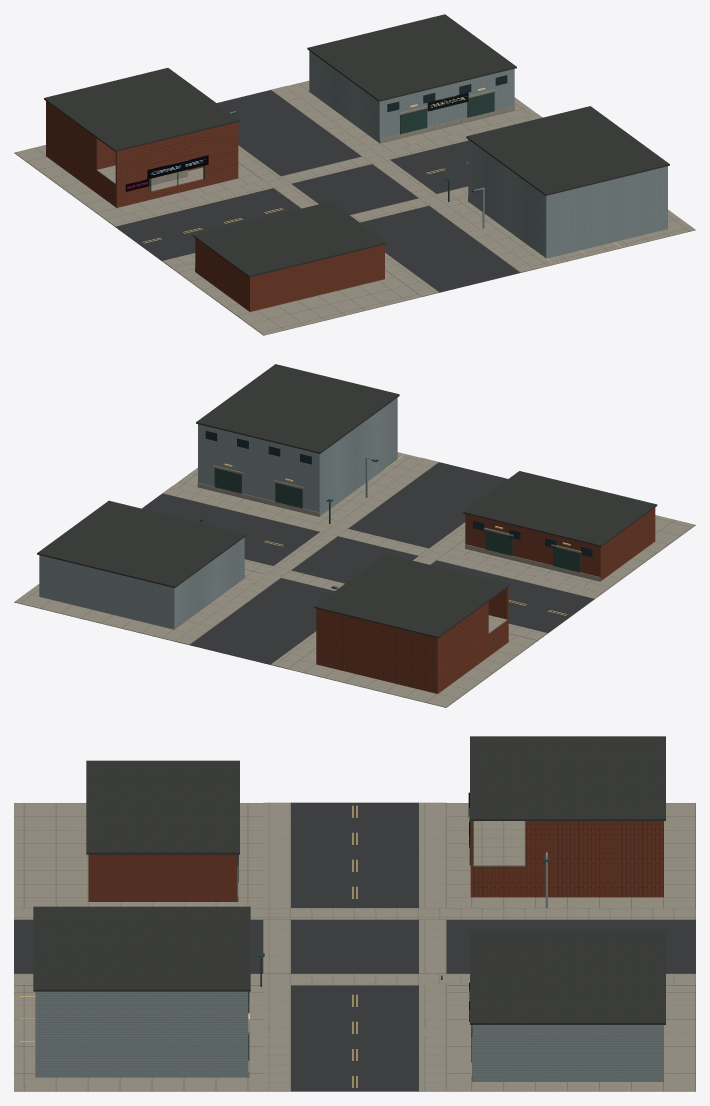
Rendered from industrial_0_0.glb.
3 views of the same model, one above another, from view 1: azimuth 30°, elevation 25°; view 2: azimuth 150°, elevation 25°; view 3: azimuth 270°, elevation 25° (orthographic). The views are drawn at different scales.
Parts seen in each view (by area): view 1: Foundry Street / North south street, Foundry Street / Yard paving, Foundry Street / Building 3 shell, Foundry Street / Building 1 roof, Foundry Street / Building 3 roof, Foundry Street / Building 0 roof, Foundry Street / Building 2 roof, Foundry Street / East west street, Foundry Street / Building 2 shell, Foundry Street / Building 1 shell, Foundry Street / Street walk X 1, Foundry Street / Street walk Z -1 (+10 smaller); view 2: Foundry Street / North south street, Foundry Street / Yard paving, Foundry Street / Building 3 shell, Foundry Street / Building 1 roof, Foundry Street / Building 3 roof, Foundry Street / Shop rear volume, Foundry Street / Building 0 roof, Foundry Street / Building 1 shell, Foundry Street / Building 2 roof, Foundry Street / East west street, Foundry Street / Building 2 shell, Foundry Street / Street walk X 1 (+10 smaller); view 3: Foundry Street / Yard paving, Foundry Street / East west street, Foundry Street / Building 3 roof, Foundry Street / Building 3 shell, Foundry Street / Building 1 roof, Foundry Street / Building 0 roof, Foundry Street / Building 2 roof, Foundry Street / North south street, Foundry Street / Building 1 shell, Foundry Street / Shop rear volume, Foundry Street / Street walk Z -1, Foundry Street / Street walk Z 1 (+5 smaller).
Part boxes in pixels (x1=…): Foundry Street / North south street: x1=217, y1=90, x2=519, y2=292; Foundry Street / Yard paving: x1=14, y1=80, x2=695, y2=335; Foundry Street / Building 3 shell: x1=468, y1=139, x2=667, y2=258; Foundry Street / Building 1 roof: x1=307, y1=14, x2=516, y2=101; Foundry Street / Building 3 roof: x1=466, y1=106, x2=669, y2=195; Foundry Street / Building 0 roof: x1=44, y1=68, x2=239, y2=151; Foundry Street / Building 2 roof: x1=193, y1=201, x2=386, y2=277; Foundry Street / East west street: x1=115, y1=141, x2=468, y2=260; Foundry Street / Building 2 shell: x1=195, y1=238, x2=384, y2=311; Foundry Street / Building 1 shell: x1=309, y1=51, x2=514, y2=142; Foundry Street / Street walk X 1: x1=271, y1=85, x2=537, y2=272; Foundry Street / Street walk Z -1: x1=105, y1=114, x2=542, y2=226; Foundry Street / North south street: x1=190, y1=462, x2=507, y2=664; Foundry Street / Yard paving: x1=14, y1=452, x2=695, y2=707; Foundry Street / Building 3 shell: x1=198, y1=397, x2=397, y2=516; Foundry Street / Building 1 roof: x1=37, y1=500, x2=246, y2=587; Foundry Street / Building 3 roof: x1=196, y1=364, x2=399, y2=453; Foundry Street / Shop rear volume: x1=316, y1=602, x2=488, y2=693; Foundry Street / Building 0 roof: x1=314, y1=554, x2=509, y2=638; Foundry Street / Building 1 shell: x1=39, y1=537, x2=244, y2=629; Foundry Street / Building 2 roof: x1=463, y1=471, x2=657, y2=546; Foundry Street / East west street: x1=142, y1=493, x2=594, y2=632; Foundry Street / Building 2 shell: x1=465, y1=507, x2=655, y2=580; Foundry Street / Street walk X 1: x1=172, y1=458, x2=438, y2=644; Foundry Street / Yard paving: x1=14, y1=803, x2=695, y2=1091; Foundry Street / East west street: x1=291, y1=802, x2=418, y2=1091; Foundry Street / Building 3 roof: x1=33, y1=906, x2=250, y2=991; Foundry Street / Building 3 shell: x1=35, y1=991, x2=248, y2=1077; Foundry Street / Building 1 roof: x1=470, y1=931, x2=665, y2=1024; Foundry Street / Building 0 roof: x1=470, y1=736, x2=665, y2=820; Foundry Street / Building 2 roof: x1=86, y1=760, x2=239, y2=854; Foundry Street / North south street: x1=14, y1=920, x2=695, y2=973; Foundry Street / Building 1 shell: x1=472, y1=1025, x2=663, y2=1081; Foundry Street / Shop rear volume: x1=525, y1=821, x2=663, y2=897; Foundry Street / Street walk Z -1: x1=419, y1=802, x2=446, y2=1090; Foundry Street / Street walk Z 1: x1=263, y1=802, x2=290, y2=1090.
Size of the model in its own units: 64 by 9.26 by 64.
12 materials, 12 textured.
